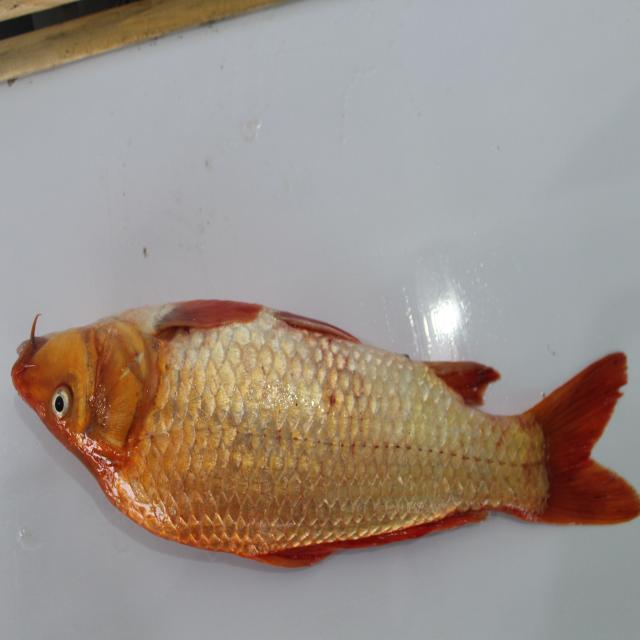Gold-Fish: (12, 190, 640, 616)
